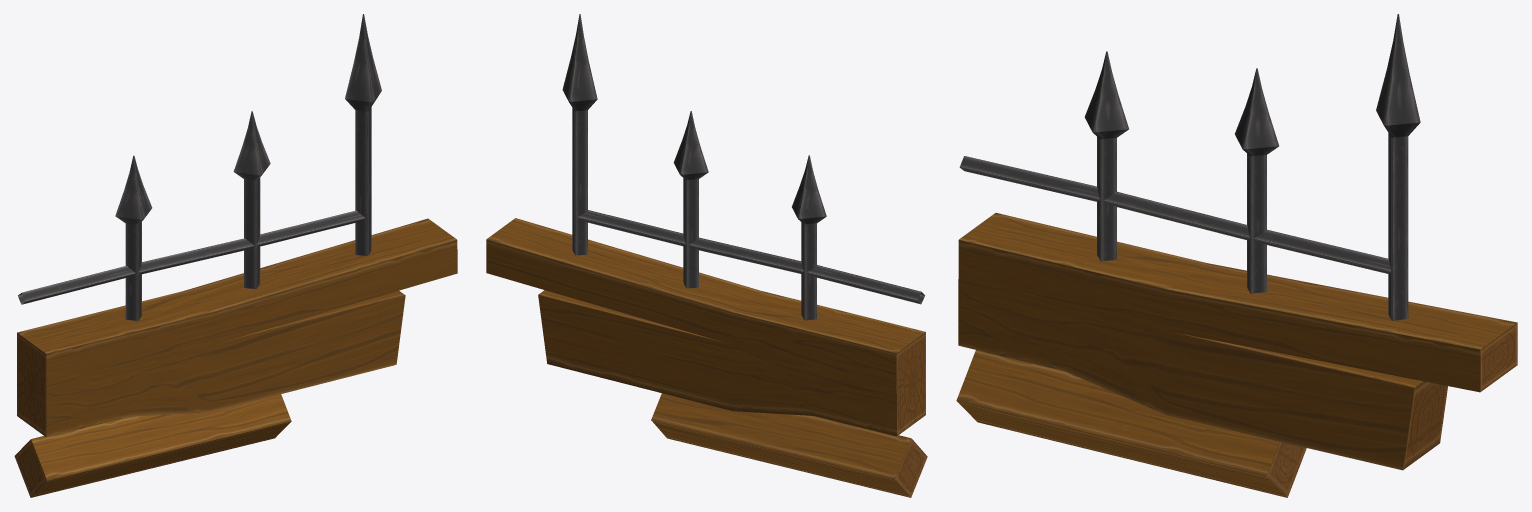
The model's file is SM_House_Roof_Beam_End.fbx.
3 renders of one model, left to right at view 1: azimuth 30°, elevation 25°; view 2: azimuth 150°, elevation 25°; view 3: azimuth 330°, elevation 25°, orthographic. The views are drawn at different scales.
Visible parts, largest first — view 1: SM_House_Roof_Beam_End_LOD0; view 2: SM_House_Roof_Beam_End_LOD0; view 3: SM_House_Roof_Beam_End_LOD0.
Part boxes in pixels (x1,y1,x2,y2): SM_House_Roof_Beam_End_LOD0: [14, 14, 457, 497]; SM_House_Roof_Beam_End_LOD0: [486, 14, 927, 497]; SM_House_Roof_Beam_End_LOD0: [956, 14, 1517, 497].
Bounding box in the file's own units: 285 × 38.38 × 261.
